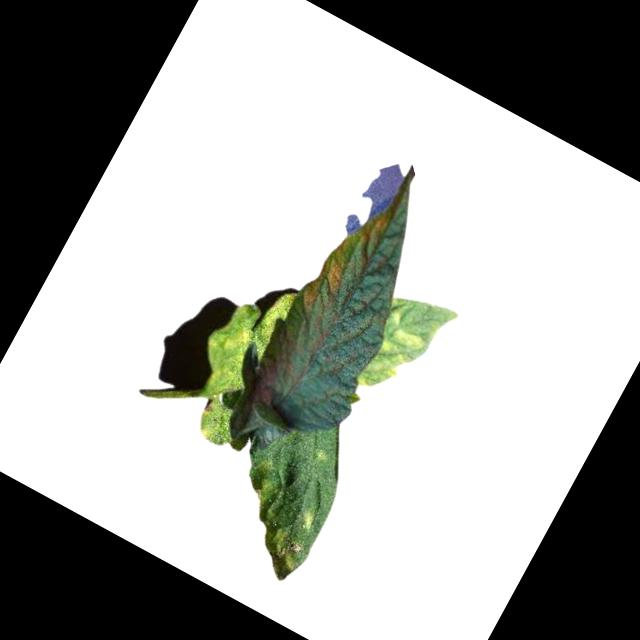Leaf_Mold: (185, 268, 299, 411), (220, 459, 341, 587), (351, 296, 443, 408), (298, 247, 356, 317), (356, 203, 400, 253)
